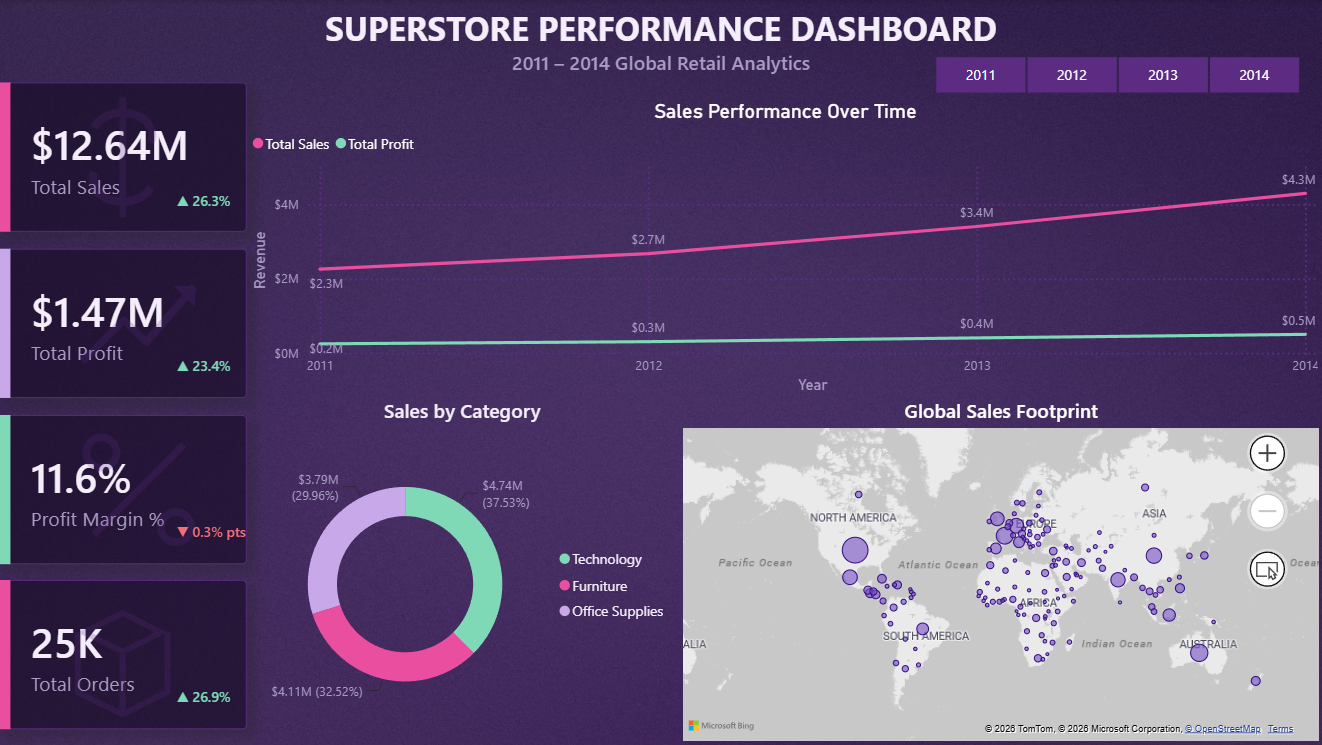

This screenshot's page, from the dashboard's own definition file:
{"tool":"powerbi","page":{"name":"Performance dashoard","canvas":[1280,720],"ordinal":0},"visuals":[{"type":"textbox","box":[0,0,1280,96],"z":0},{"type":"cardVisual","fields":{"Data":["Measures (2).Total Sales"]},"box":[0,80,240,144],"z":1000},{"type":"cardVisual","fields":{"Data":["Measures (2).Total Profit"]},"box":[0,240,240,144],"z":2000},{"type":"cardVisual","fields":{"Data":["Measures (2).Profit Margin %"]},"box":[0,400,240,144],"z":3000},{"type":"cardVisual","fields":{"Data":["Measures (2).Total Orders"]},"box":[0,560,240,144],"z":4000},{"type":"shape","box":[0,80,12,144],"z":5000},{"type":"image","box":[0,80,240,144],"z":6000},{"type":"shape","box":[0,240,12,144],"z":7000},{"type":"shape","box":[0,400,12,144],"z":8000},{"type":"shape","box":[0,560,12,144],"z":9000},{"type":"image","box":[16,240,240,144],"z":10000},{"type":"image","box":[16,400,240,144],"z":11000},{"type":"image","box":[0,560,240,144],"z":12000},{"type":"lineChart","title":"Sales Performance Over Time","fields":{"Category":["DateTable.Year","DateTable.Month"],"Y":["Measures (2).Total Sales","Measures (2).Total Profit"]},"box":[240,96,1040,288],"z":13000},{"type":"donutChart","title":"Sales by Category","fields":{"Category":["SuperStoreOrders.category"],"Y":["Measures (2).Total Sales"]},"box":[240,384,416,336],"z":14000},{"type":"map","title":"Global Sales Footprint","fields":{"Category":["SuperStoreOrders.country"],"Size":["Measures (2).Total Sales"]},"box":[656,384,624,336],"z":15000},{"type":"cardVisual","fields":{"Data":["Measures (2).Sales YoY Display"]},"box":[144,160,112,64],"z":16000},{"type":"cardVisual","fields":{"Data":["Measures (2).Profit YoY Display"]},"box":[144,320,112,64],"z":17000},{"type":"cardVisual","fields":{"Data":["Measures (2).Margin YoY Display"]},"box":[144,480,128,64],"z":18000},{"type":"cardVisual","fields":{"Data":["Measures (2).Orders YoY Display"]},"box":[144,640,112,64],"z":19000},{"type":"slicer","fields":{"Values":["DateTable.Year"]},"box":[880,48,400,48],"z":20000}]}

Visuals, with their boxes in screenshot pixels (x1, y1, x2, y2), scaled from the page's 1280x720 canvas onto the 1322x745 screenshot:
textbox: box(0, 0, 1321, 99)
cardVisual - Measures (2).Total Sales: box(0, 83, 248, 232)
cardVisual - Measures (2).Total Profit: box(0, 248, 248, 397)
cardVisual - Measures (2).Profit Margin %: box(0, 414, 248, 563)
cardVisual - Measures (2).Total Orders: box(0, 579, 248, 728)
shape: box(0, 83, 12, 232)
image: box(0, 83, 248, 232)
shape: box(0, 248, 12, 397)
shape: box(0, 414, 12, 563)
shape: box(0, 579, 12, 728)
image: box(17, 248, 264, 397)
image: box(17, 414, 264, 563)
image: box(0, 579, 248, 728)
"Sales Performance Over Time" lineChart: box(248, 99, 1321, 397)
"Sales by Category" donutChart: box(248, 397, 678, 744)
"Global Sales Footprint" map: box(678, 397, 1321, 744)
cardVisual - Measures (2).Sales YoY Display: box(149, 166, 264, 232)
cardVisual - Measures (2).Profit YoY Display: box(149, 331, 264, 397)
cardVisual - Measures (2).Margin YoY Display: box(149, 497, 281, 563)
cardVisual - Measures (2).Orders YoY Display: box(149, 662, 264, 728)
slicer - DateTable.Year: box(909, 50, 1321, 99)
